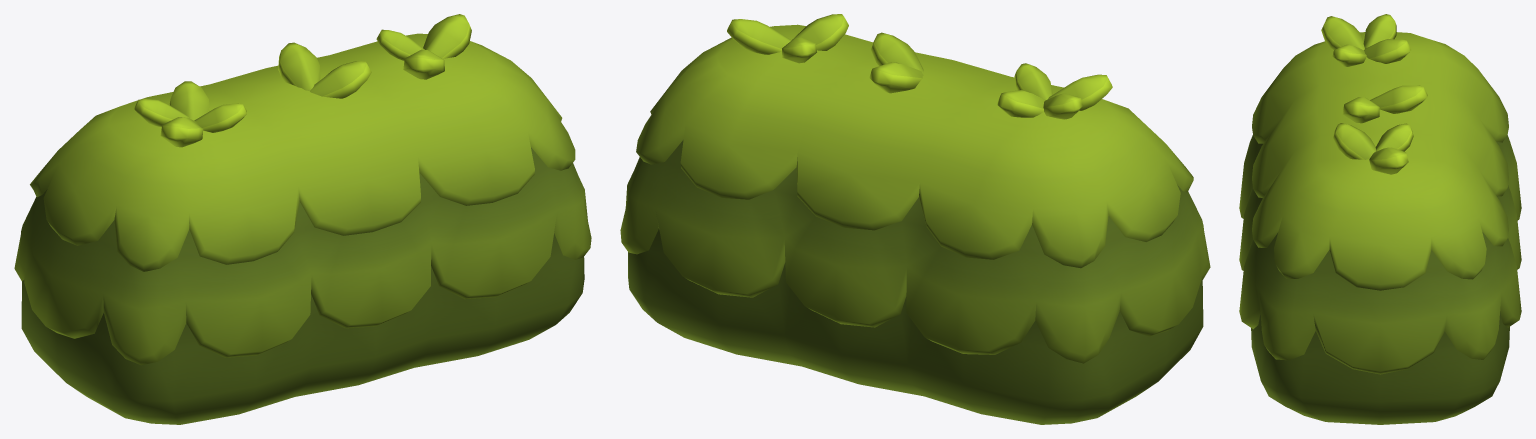
File: bush5_LOD_setup.fbx
3 renders of one model, left to right at view 1: azimuth 30°, elevation 25°; view 2: azimuth 150°, elevation 25°; view 3: azimuth 270°, elevation 25°, orthographic. The views are drawn at different scales.
Visible parts, largest first — view 1: bush5_LOD0; view 2: bush5_LOD0; view 3: bush5_LOD0.
Boxes of the visible parts, left/top/right/bottom form: bush5_LOD0: left=14, top=14, right=591, bottom=424; bush5_LOD0: left=620, top=14, right=1210, bottom=424; bush5_LOD0: left=1239, top=14, right=1521, bottom=424.
Size of what is drawn, in the model's own units: 215 by 116 by 115.
